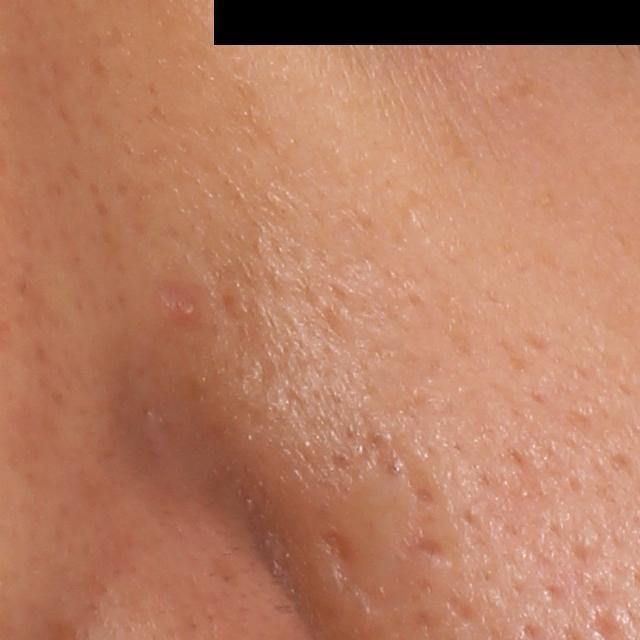atrophic_scar: (448, 593, 487, 628), (409, 528, 453, 559), (321, 528, 353, 567)
papule: (164, 283, 207, 325)
